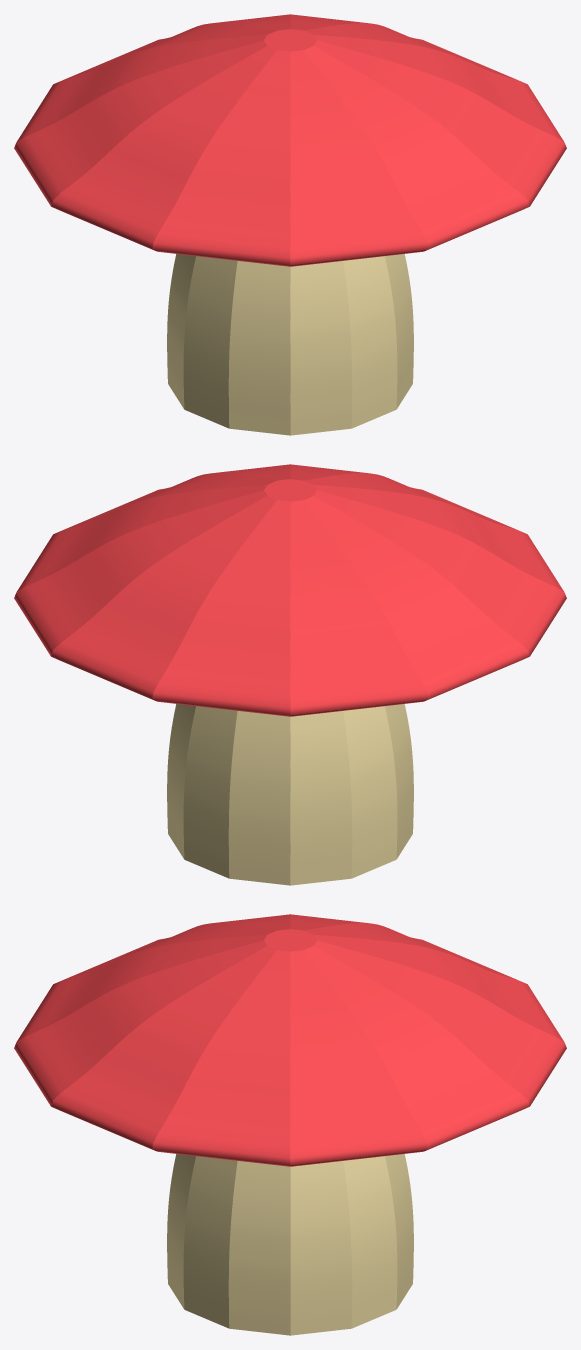
The picture shows the model from 3 angles, top to bottom: view 1: azimuth 30°, elevation 25°; view 2: azimuth 150°, elevation 25°; view 3: azimuth 270°, elevation 25°; orthographic projection.
Parts seen in each view (by area): view 1: cap, stem; view 2: cap, stem; view 3: cap, stem.
Part boxes in pixels (box(x1,y1,x2,y2)): cap: box(14, 14, 566, 266); stem: box(167, 254, 413, 435); cap: box(14, 464, 566, 716); stem: box(167, 704, 413, 885); cap: box(14, 914, 566, 1166); stem: box(167, 1154, 413, 1335).
Size of the model in its own units: 0.1038 by 0.0712 by 0.1038.
